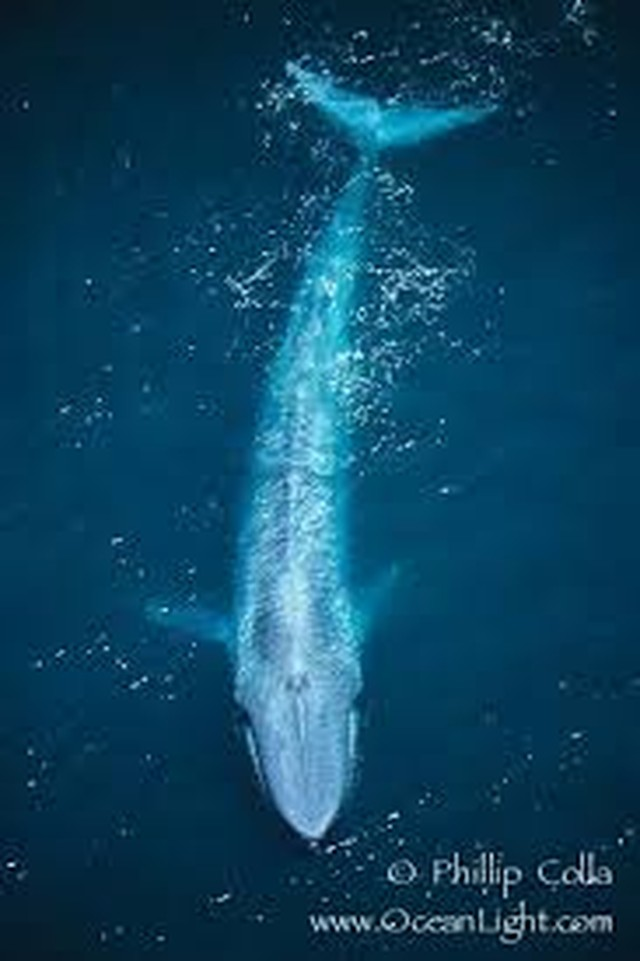whale: (145, 55, 503, 844)
